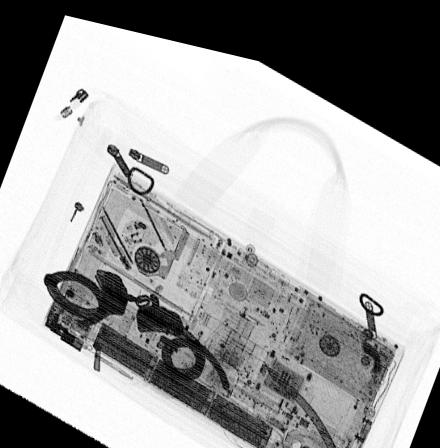HandCuffs: (39, 263, 231, 384)
